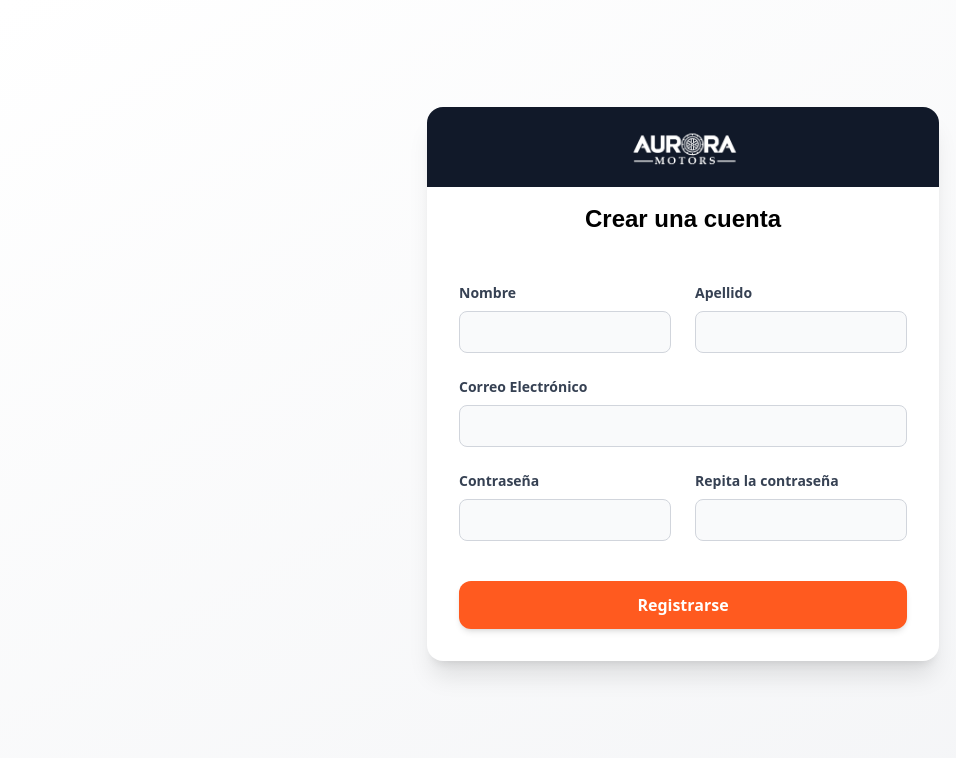
Test case: Debe mostrar mensajes de error si no se ingresan datos
Click the button "Registrarse".
click(683, 605)  # box [459, 581, 907, 629]
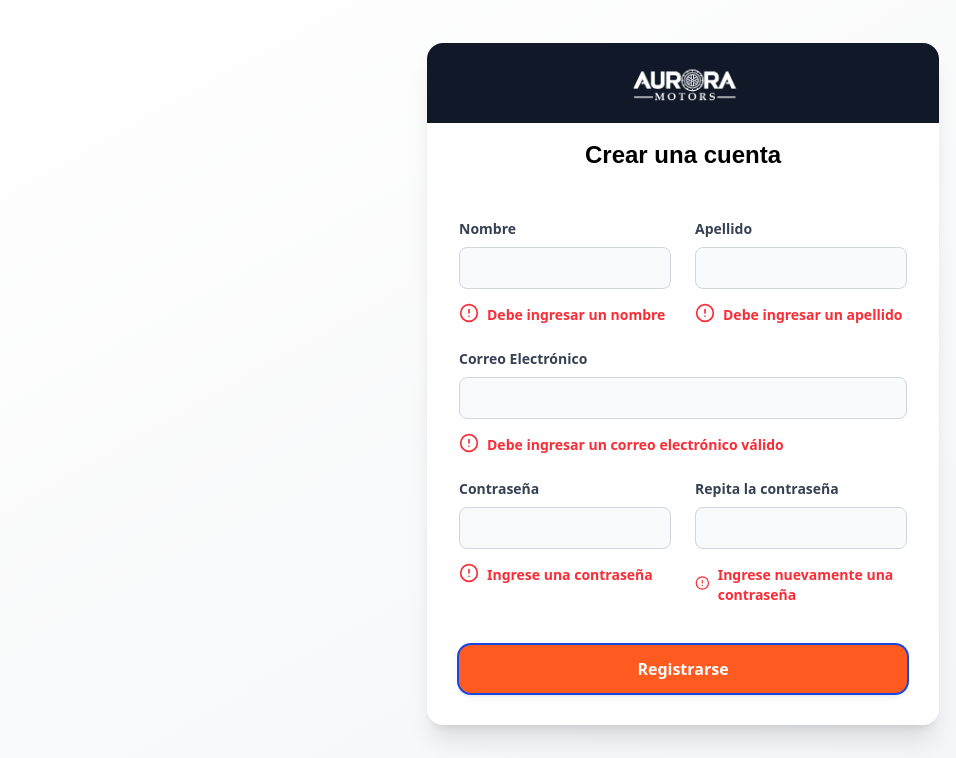
Expected: the text "Debe ingresar un nombre" is shown, [487, 305, 665, 325]
Expected: the text "Debe ingresar un apellido" is shown, [723, 305, 902, 325]
Expected: the text "Debe ingresar un correo electrónico válido" is shown, [487, 435, 784, 455]
